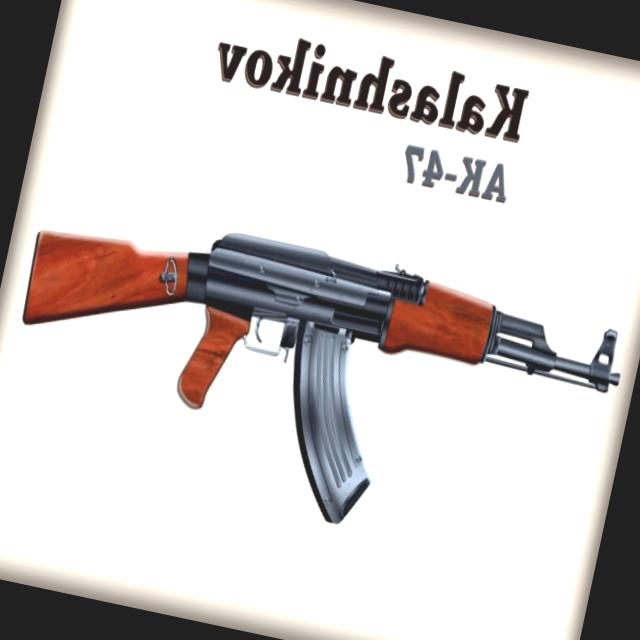ak: (0, 175, 632, 575)
